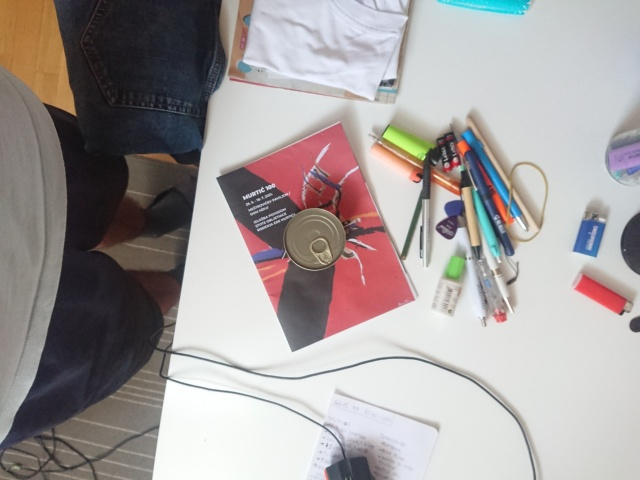Gavrilovic Pork Liver Pate 100g: (280, 205, 348, 272)
